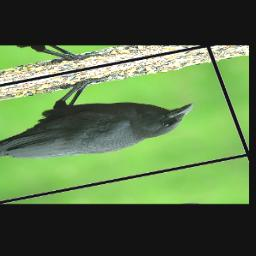Crow: (0, 59, 205, 176)
